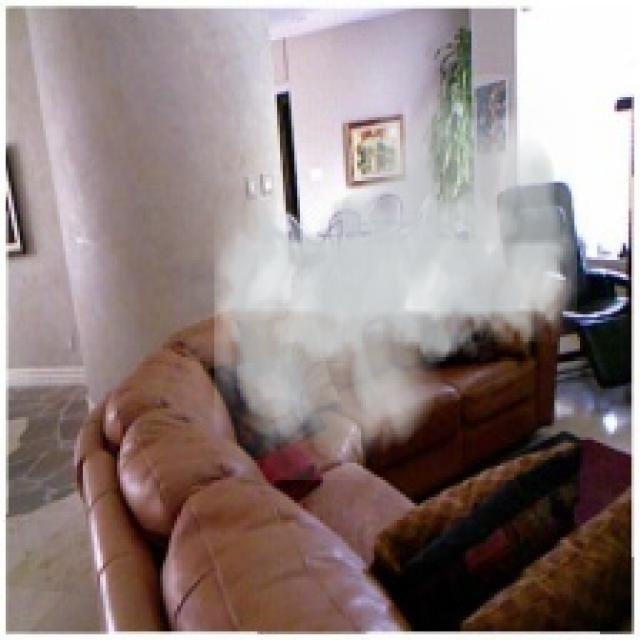smoke: (214, 74, 577, 480)
